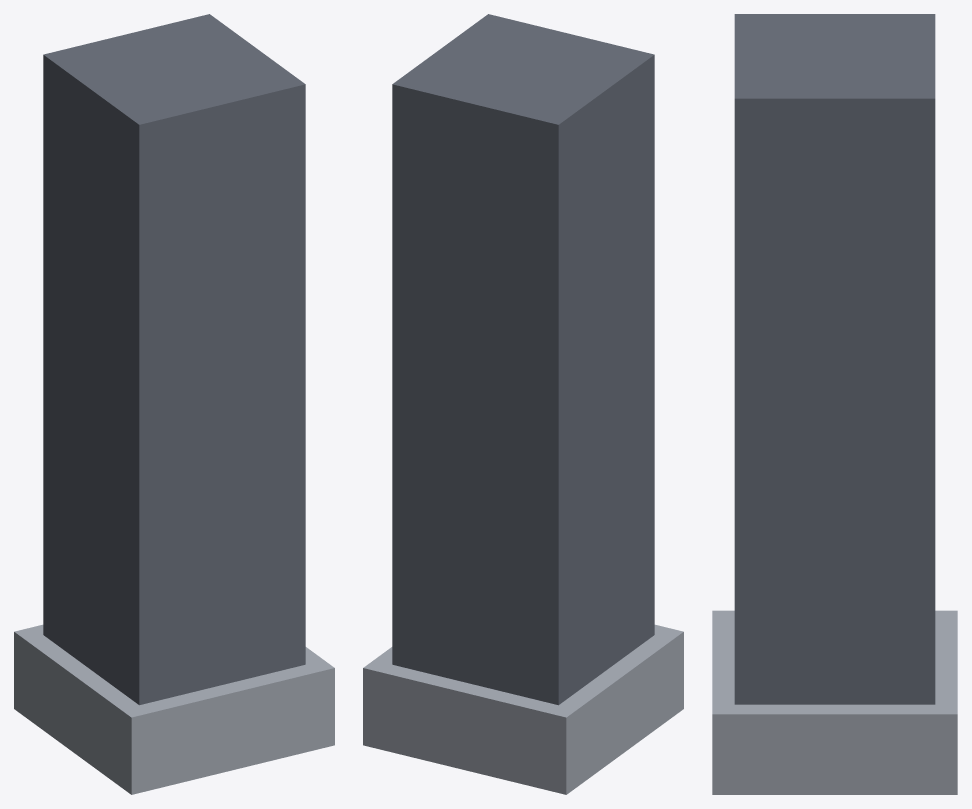
Rendered from flashlight.glb.
3 renders of one model, left to right at view 1: azimuth 30°, elevation 25°; view 2: azimuth 150°, elevation 25°; view 3: azimuth 270°, elevation 25°, orthographic. The views are drawn at different scales.
Visible parts, largest first — view 1: flashlight; view 2: flashlight; view 3: flashlight.
Part boxes in pixels (left/top/right/bottom): flashlight: left=14, top=14, right=334, bottom=794; flashlight: left=363, top=14, right=683, bottom=794; flashlight: left=712, top=14, right=957, bottom=794.
Size of the model in its own units: 0.055 by 0.17 by 0.055.
Materials: 1 (1 with a texture image).
